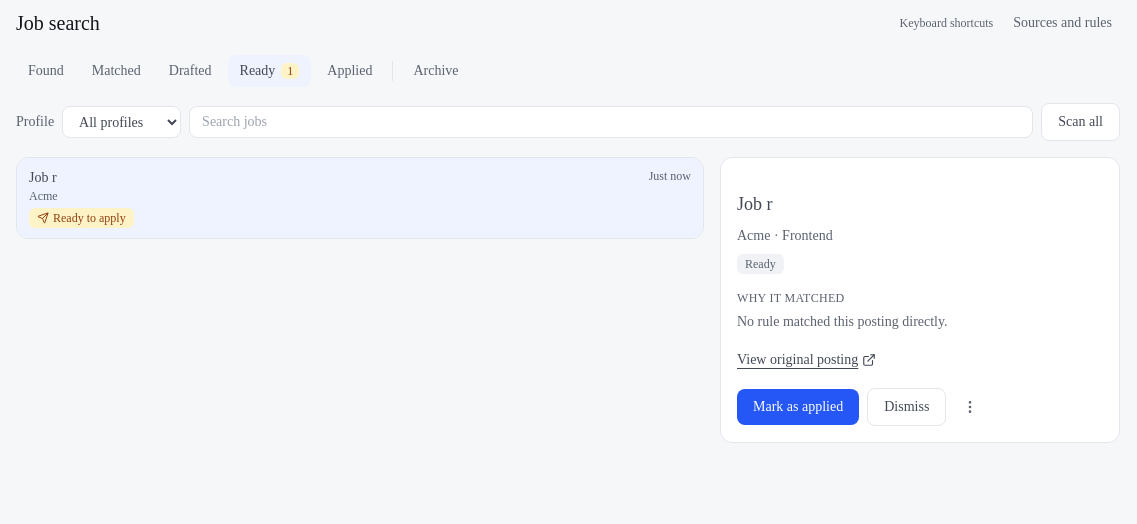
Scenario: PipelineInbox › clears the action error banner when the stage changes
The image size is (1137, 524).
Click the button "Mark as applied" at [798, 407], box [737,389,859,425]
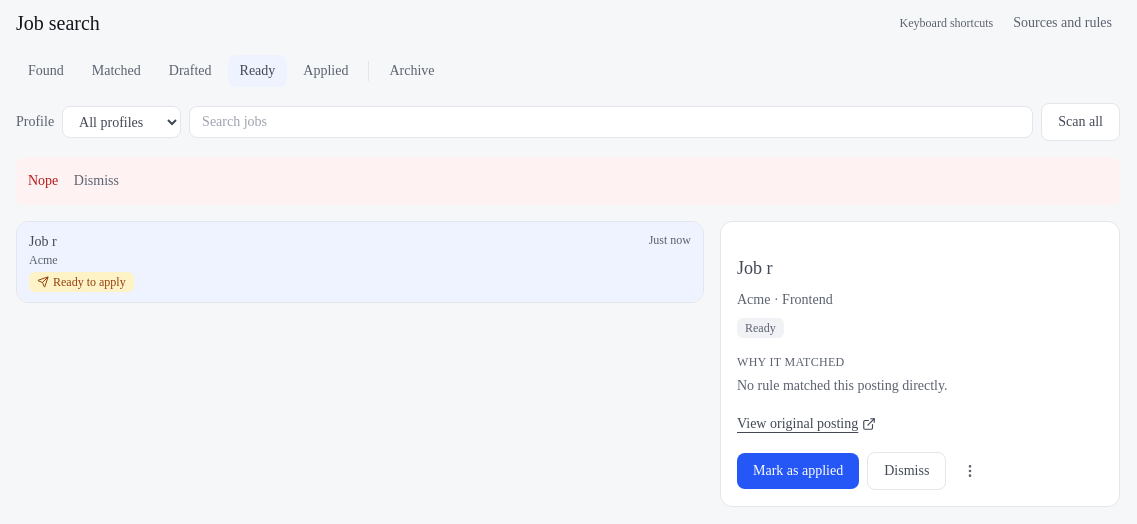
Now the message "Nope Dismiss" is shown, box [16,157,1120,205]
Click the tab "Drafted" at [190, 71], box [157,55,224,87]
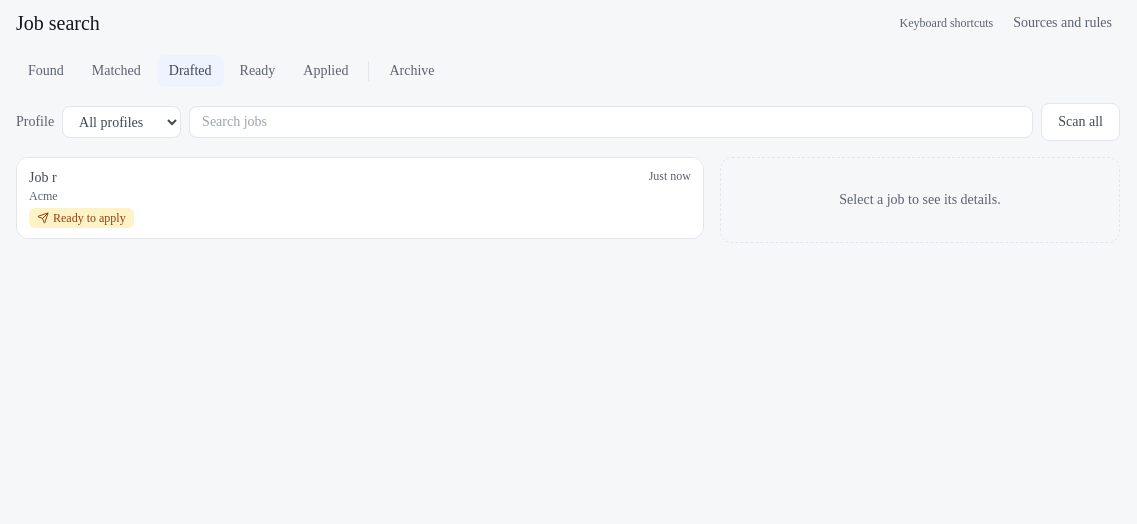
Now the message "Nope Dismiss" is gone
